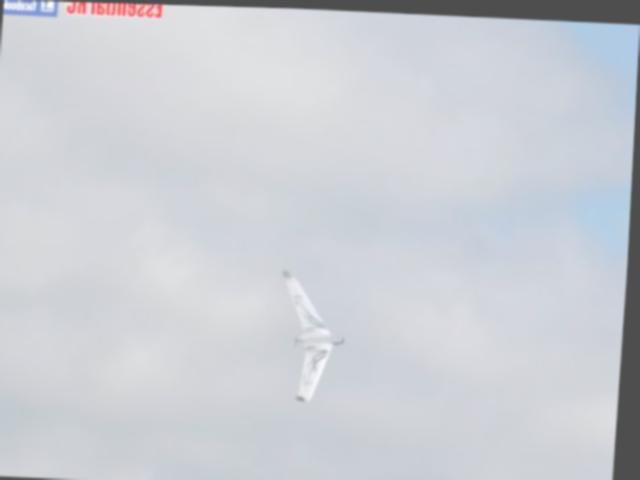flying wing: (274, 263, 353, 404)
